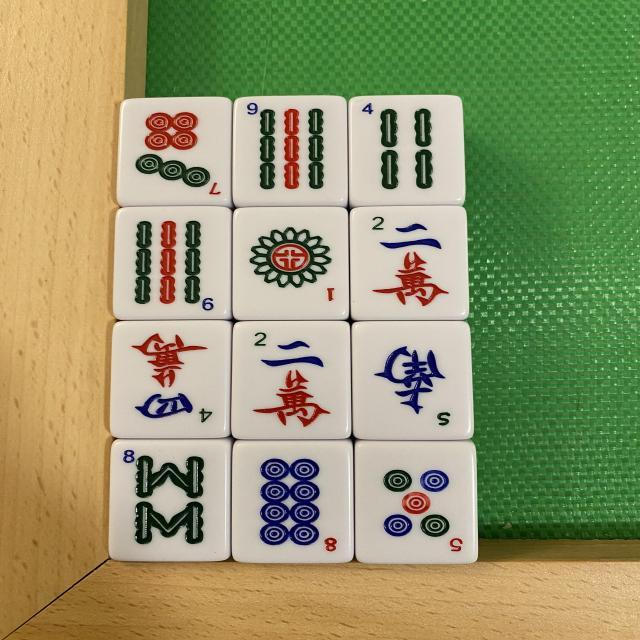hws: (359, 324, 466, 436)
sb4: (352, 95, 464, 206)
sb8: (111, 440, 232, 562)
sb9: (112, 209, 230, 322), (234, 96, 349, 205)
sc2: (231, 320, 350, 440), (352, 204, 468, 318)
sc4: (109, 318, 230, 437)
sd1: (232, 208, 348, 323)
sd5: (359, 438, 476, 560)
sd7: (115, 98, 229, 208)
sd8: (231, 441, 351, 565)
